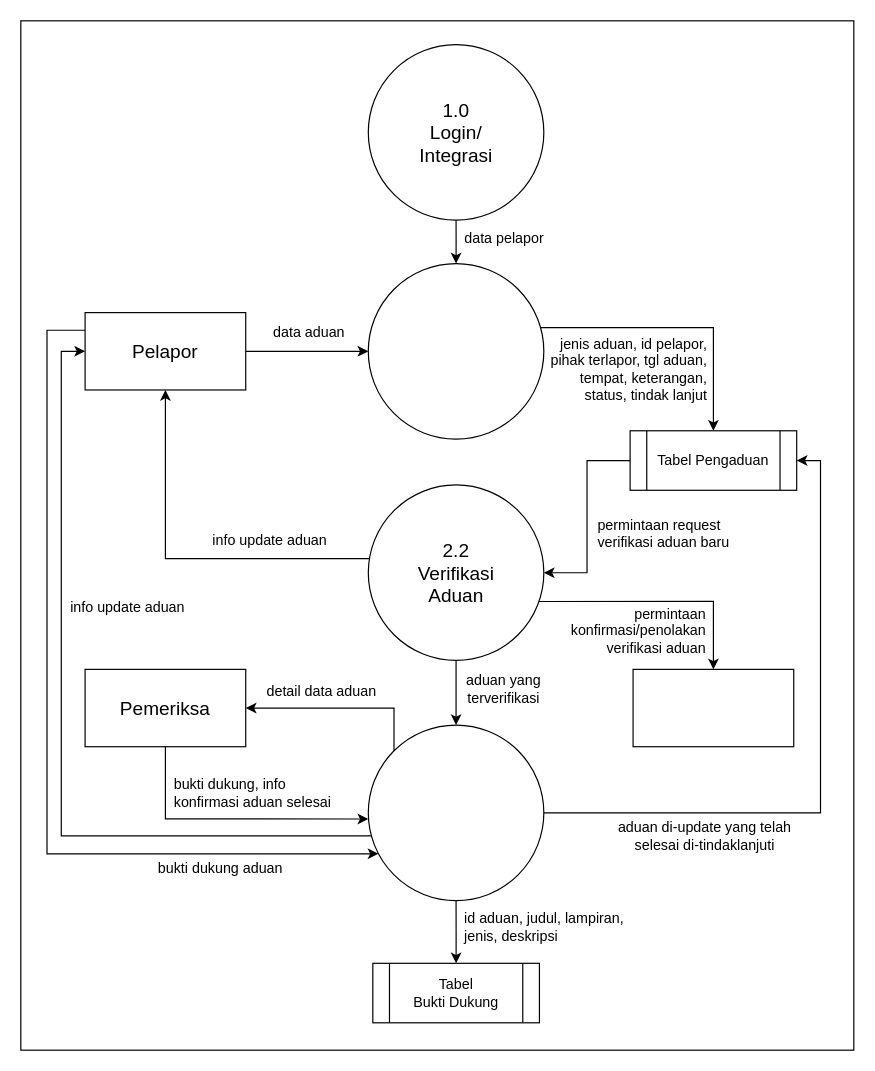
Image size: 875x1071. Some labels were removed from this diagram. Each missing label, with the box of its shape:
2.1 Registrasi Aduan: (367, 262, 544, 439)
2.3 Pemeriksaan Aduan: (367, 724, 544, 901)
Inspektur: (632, 668, 794, 747)
